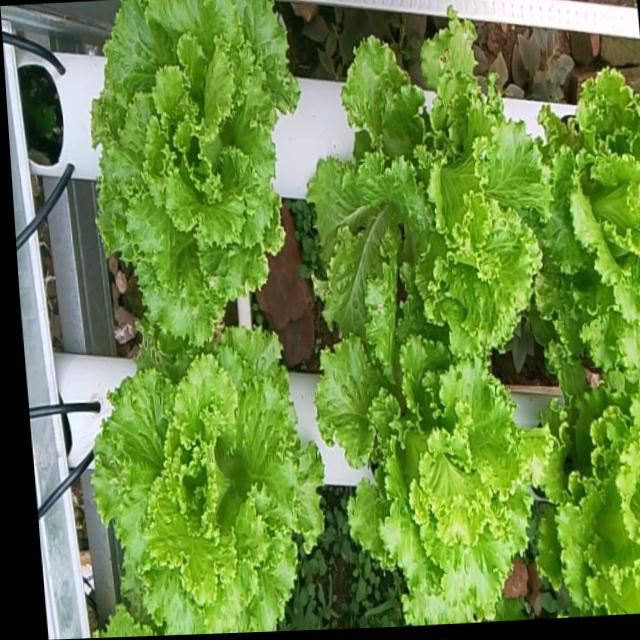Mature: (315, 9, 557, 341), (103, 322, 334, 637), (324, 304, 550, 623), (100, 0, 307, 346), (545, 53, 640, 357), (547, 362, 640, 615)
